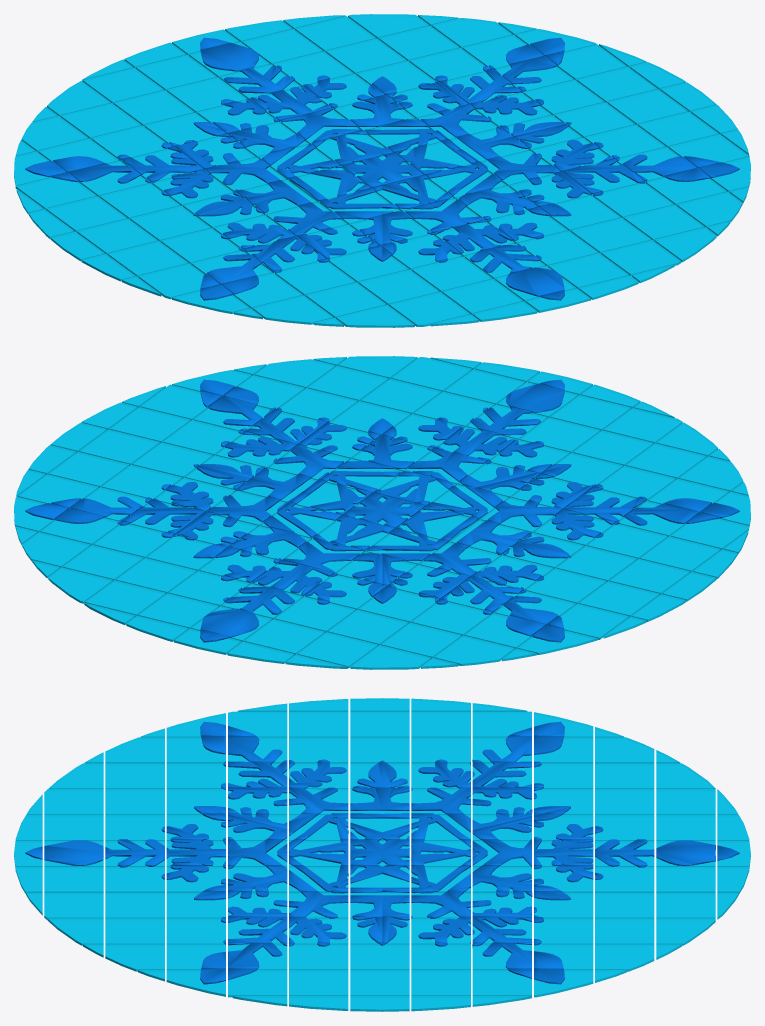
The model's file is 氷の床.fbx.
The picture shows the model from 3 angles, top to bottom: view 1: azimuth 30°, elevation 25°; view 2: azimuth 150°, elevation 25°; view 3: azimuth 270°, elevation 25°; orthographic projection.
Parts seen in each view (by area): view 1: 平面.036, 平面.077, 平面.064, 平面.079, 平面.076, 平面.007, 平面.056, 平面.059, 平面.039, 平面.069, 平面.022, 平面.034 (+109 smaller); view 2: 平面.021, 平面.010, 平面.063, 平面.019, 平面.066, 平面.078, 平面.062, 平面.060, 平面.047, 平面.016, 平面.069, 平面.082 (+109 smaller); view 3: 平面.032, 平面.084, 平面.073, 平面.071, 平面.052, 平面.082, 平面.009, 平面.022, 平面.043, 平面.013, 平面.037, 平面.045 (+109 smaller).
Boxes of the visible parts, box(x1,y1,x2,y2) form: 平面.036: box(646, 168, 727, 205); 平面.077: box(68, 161, 149, 196); 平面.064: box(244, 236, 325, 273); 平面.079: box(152, 169, 233, 206); 平面.076: box(15, 172, 96, 209); 平面.007: box(189, 42, 270, 77); 平面.056: box(381, 232, 461, 270); 平面.059: box(328, 245, 408, 283); 平面.039: box(562, 158, 643, 195); 平面.069: box(183, 191, 264, 228); 平面.022: box(493, 56, 574, 93); 平面.034: box(425, 162, 506, 199); 平面.021: box(40, 508, 121, 545); 平面.010: box(252, 560, 333, 597); 平面.063: box(617, 501, 698, 537); 平面.019: box(358, 585, 439, 623); 平面.066: box(534, 509, 614, 546); 平面.078: box(442, 576, 523, 613); 平面.062: box(670, 512, 749, 549); 平面.060: box(397, 505, 478, 542); 平面.047: box(216, 431, 296, 468); 平面.016: box(305, 573, 386, 610); 平面.069: box(503, 532, 584, 568); 平面.082: box(464, 613, 545, 649); 平面.032: box(350, 917, 409, 944); 平面.084: box(472, 787, 532, 814); 平面.073: box(228, 787, 287, 814); 平面.071: box(166, 736, 225, 763); 平面.052: box(105, 865, 164, 892); 平面.082: box(534, 736, 593, 763); 平面.009: box(595, 865, 654, 892); 平面.022: box(472, 942, 531, 969); 平面.043: box(166, 891, 225, 918); 平面.013: box(534, 891, 593, 918); 平面.037: box(228, 942, 287, 969); 平面.045: box(228, 968, 287, 997).
Bounding box in the file's own units: 9590 × 53.15 × 9590.
